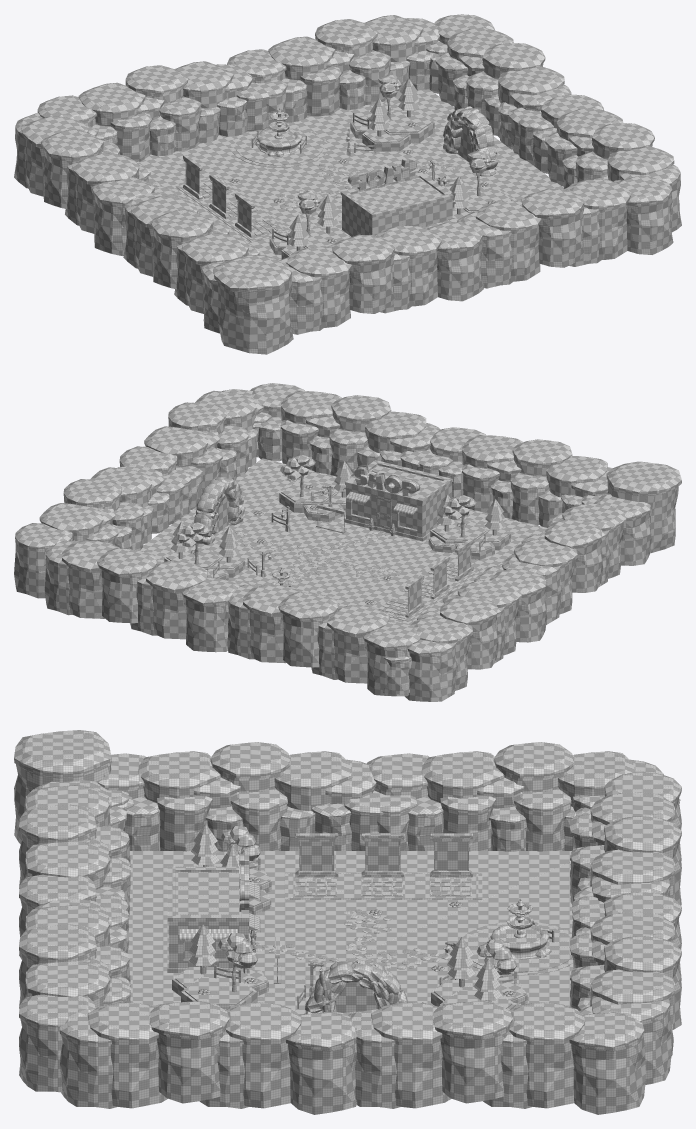
Rendered from SelectMap.fbx.
3 renders of one model, top to bottom at view 1: azimuth 30°, elevation 25°; view 2: azimuth 150°, elevation 25°; view 3: azimuth 270°, elevation 25°, orthographic. The views are drawn at different scales.
Parts seen in each view (by area): view 1: SelectMap; view 2: SelectMap; view 3: SelectMap.
Boxes of the visible parts, <box> form: SelectMap: <box>14,14,681,354</box>; SelectMap: <box>14,383,681,701</box>; SelectMap: <box>14,730,681,1114</box>.
Size of the model in its own units: 28131 by 4259 by 26296.
Materials: 34 (34 with a texture image).
